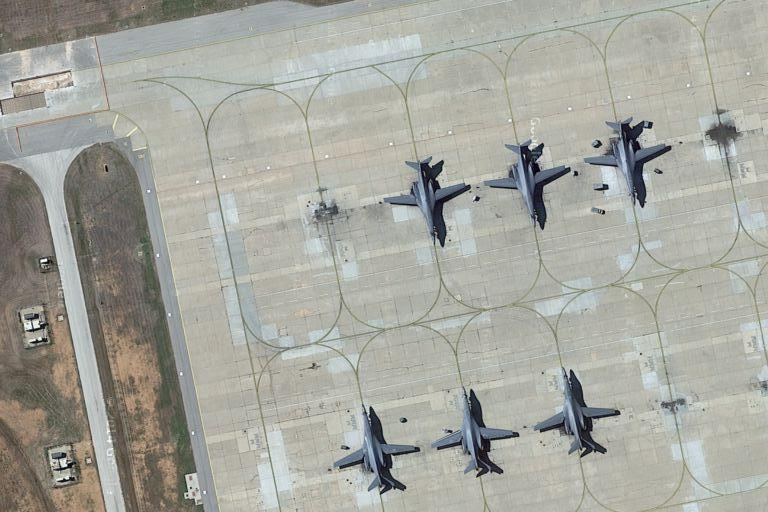B-1B: (532, 362, 625, 460), (581, 113, 673, 210), (381, 151, 470, 249), (331, 404, 425, 496), (481, 136, 570, 230), (433, 388, 522, 480)
